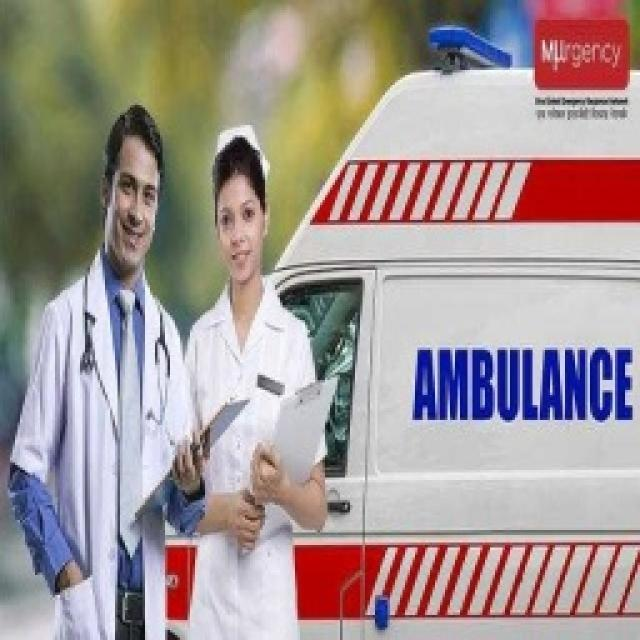emergency-vehicle: (102, 12, 640, 640)
